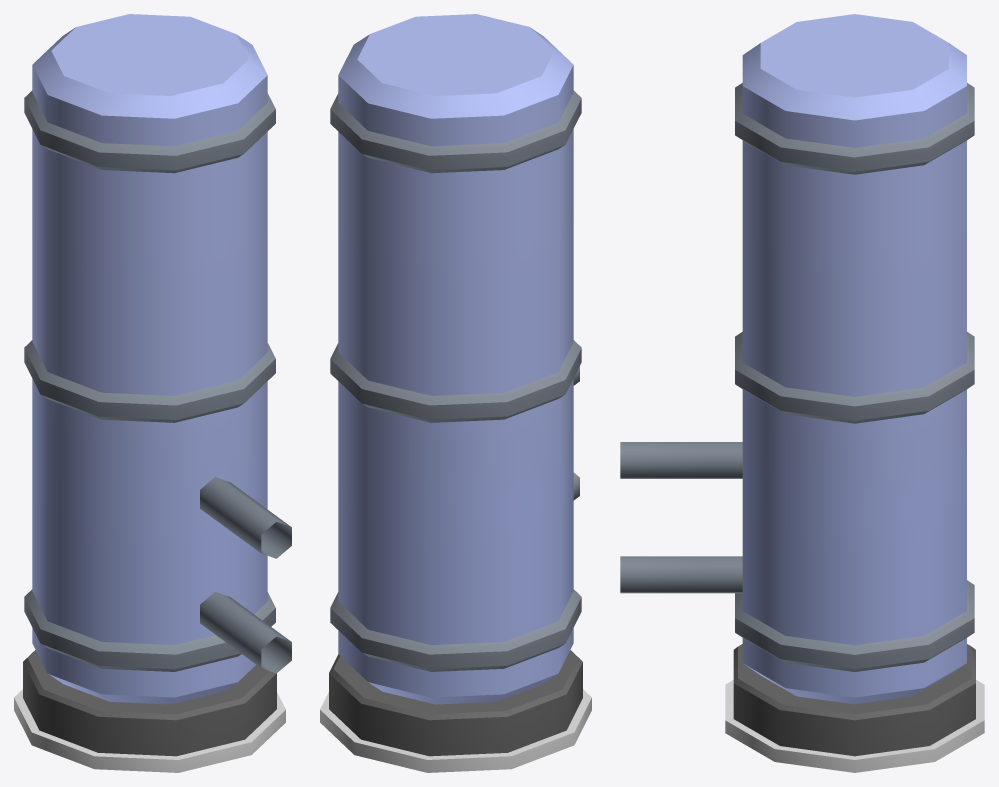
File: GasTank_1_E.fbx
3 renders of one model, left to right at view 1: azimuth 30°, elevation 25°; view 2: azimuth 150°, elevation 25°; view 3: azimuth 270°, elevation 25°, orthographic.
Parts seen in each view (by area): view 1: GasTank_1_E; view 2: GasTank_1_E; view 3: GasTank_1_E.
Boxes of the visible parts, <box> form: GasTank_1_E: <box>14,14,291,772</box>; GasTank_1_E: <box>320,14,591,772</box>; GasTank_1_E: <box>620,14,984,772</box>.
Bounding box in the file's own units: 284 × 758 × 379.
